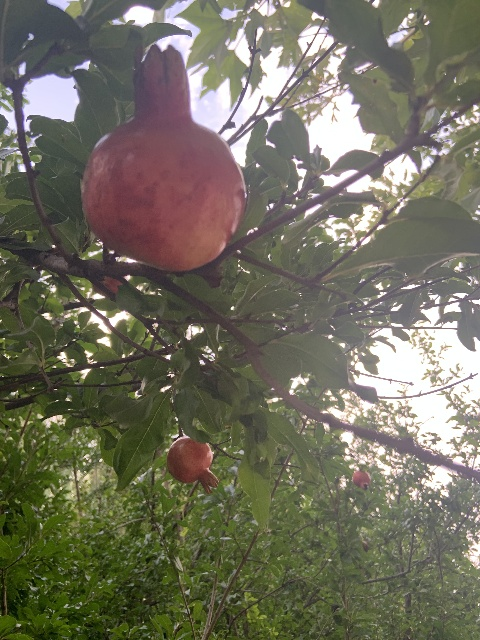ripe: (80, 44, 245, 271), (166, 435, 219, 496), (352, 470, 370, 490)
